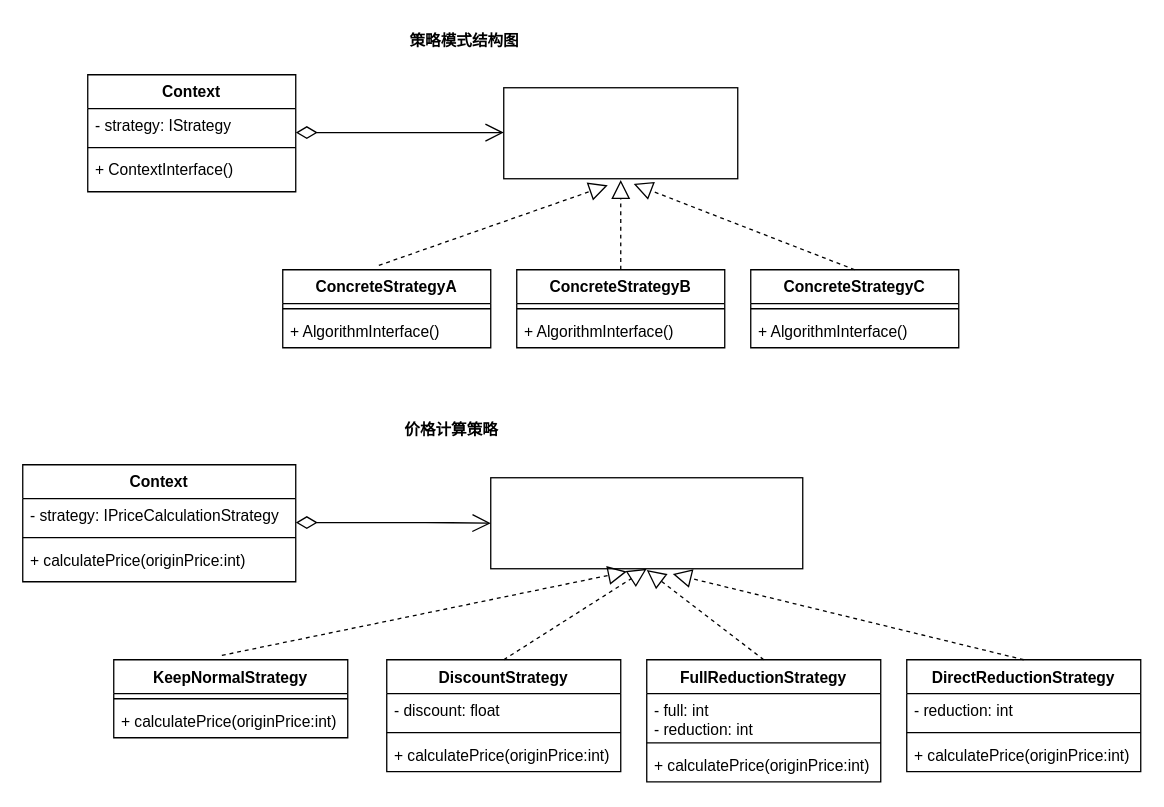
Image size: 1164x807. Some labels were removed from this diagram. The centre of each missing label's shape, as x and y in pixels:
"<<Interface>> IPriceCalculationStrategy + calculatePrice(originPrice:int)" belongs at point 646,522.
"<<Interface>> IStrategy + AlgorithmInterface()" belongs at point 620,132.
